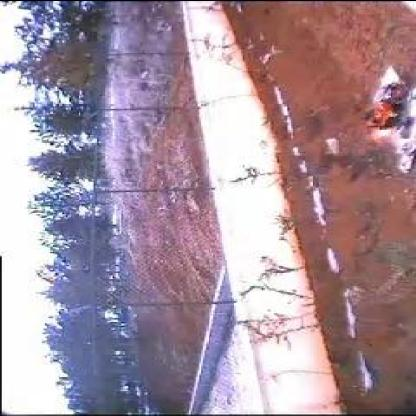foggia-v2-map80-epoch100 - v1 4323: (365, 98, 398, 141)
